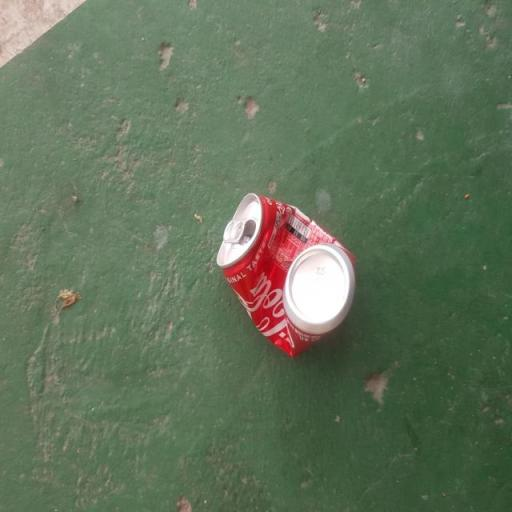metal: (208, 173, 360, 385)
